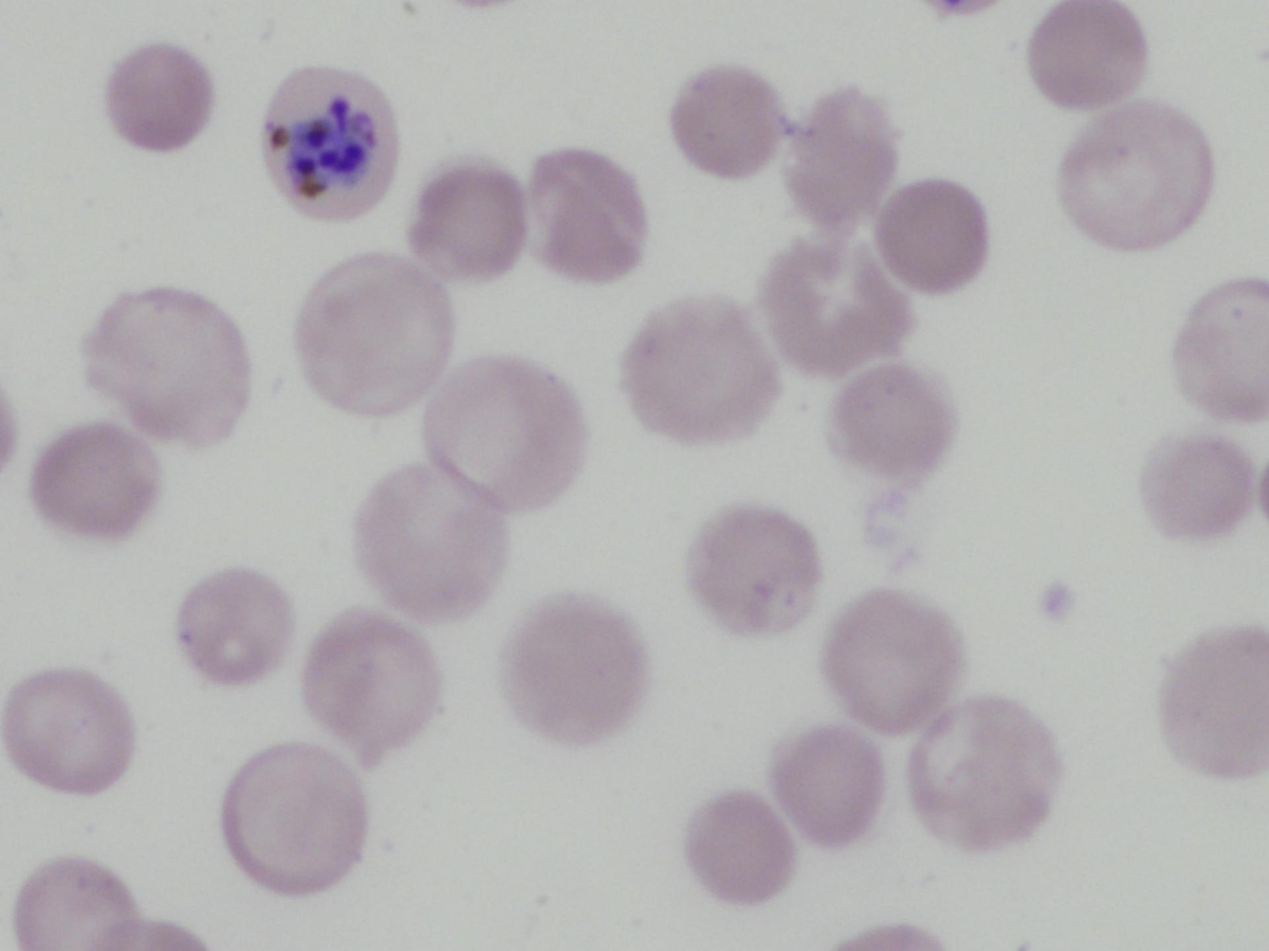Infected: (260, 65, 396, 220)
Uninfected: (87, 288, 254, 445), (295, 254, 455, 413), (423, 358, 586, 513), (356, 466, 512, 619), (908, 697, 1060, 851), (623, 299, 781, 444), (1059, 100, 1213, 248), (221, 744, 369, 895), (500, 596, 649, 745), (301, 610, 440, 762), (761, 238, 909, 377), (822, 591, 961, 735), (687, 504, 823, 636), (781, 87, 903, 227), (2, 668, 132, 797), (1156, 627, 1266, 779), (527, 150, 647, 280), (827, 363, 955, 483), (30, 422, 160, 539), (772, 724, 887, 846), (409, 163, 528, 280), (176, 567, 293, 685), (877, 179, 991, 292), (672, 65, 784, 176), (685, 792, 796, 903), (1029, 2, 1145, 106), (1141, 434, 1250, 540), (106, 43, 213, 149)
